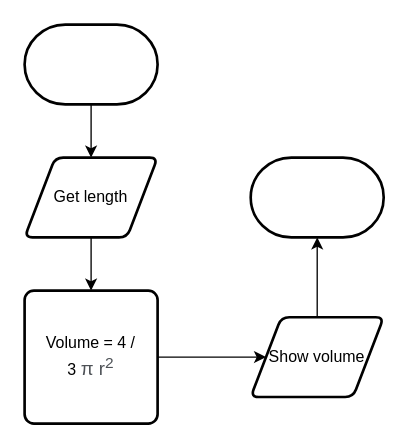
The diagram is 407 pixels wide and 447 high, and some of its shapes have lost their labels. The shapes that lost their labels are listed below. From the top down, each one's box as (x1, y1, x2, y2) in pixels, then its label:
(23, 23, 158, 105): Start
(249, 156, 384, 238): Stop
